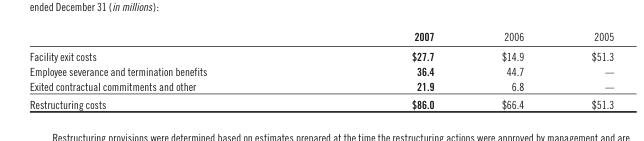table: (28, 29, 613, 110)
table column: (28, 29, 308, 110), (308, 29, 467, 110), (467, 29, 557, 110), (557, 29, 613, 110)
table column header: (28, 29, 613, 46)
table row: (28, 29, 613, 46), (28, 46, 613, 63), (28, 78, 613, 94), (28, 94, 613, 110), (28, 63, 613, 78)
